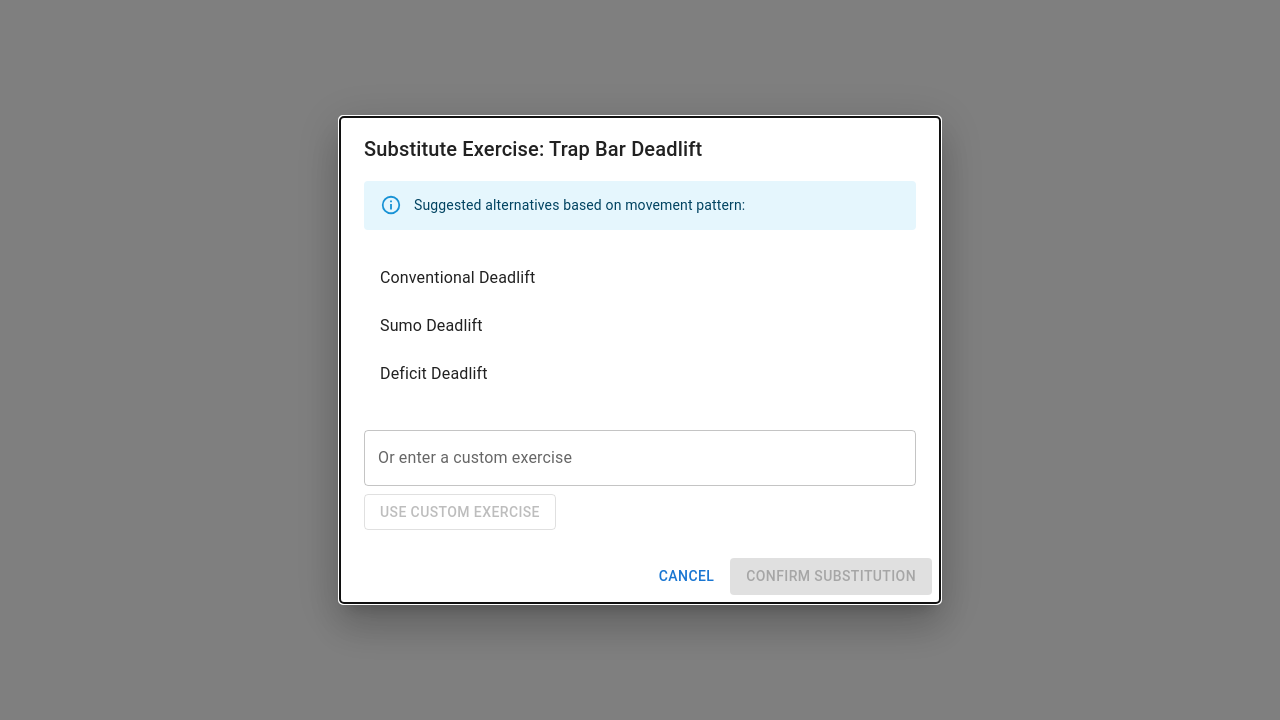
Test: ExerciseSubstitutionModal › should allow entering custom exercise name
Expected: the text "Conventional Deadlift" is shown, [380,268,535,286]
# Enter custom exercise
Type "Romanian Deadlift" into the field with placeholder "e.g., Bench Press" at (640, 458), box [364,430,916,486]
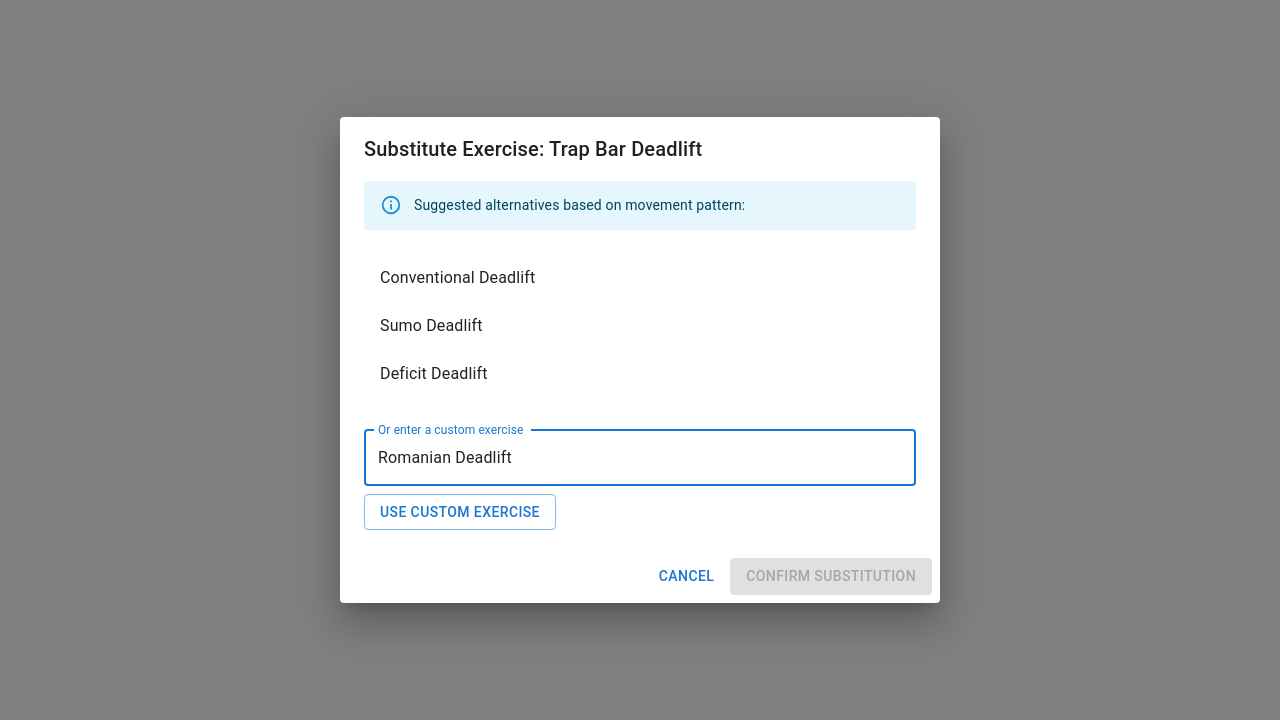
Click the button "Use Custom Exercise" at (460, 512), box [364,494,556,530]
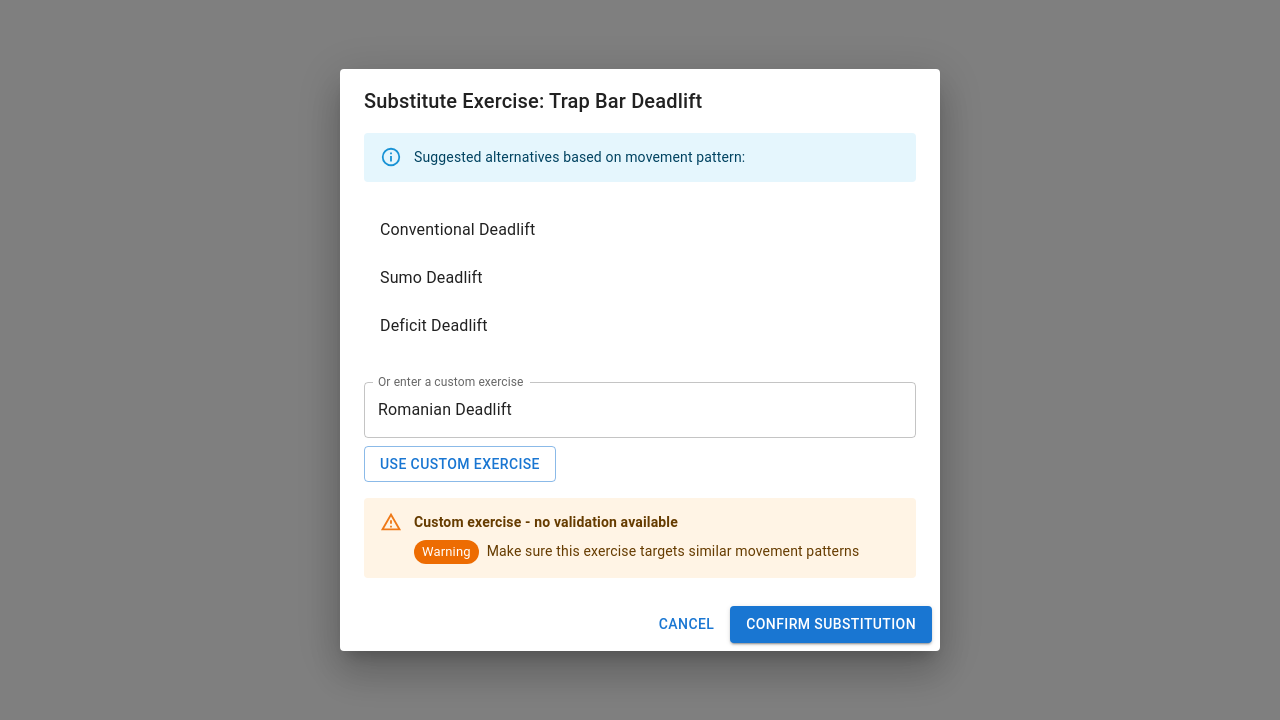
Now the text "Make sure this exercise targets similar movement patterns" is shown, box [487,543,859,559]
